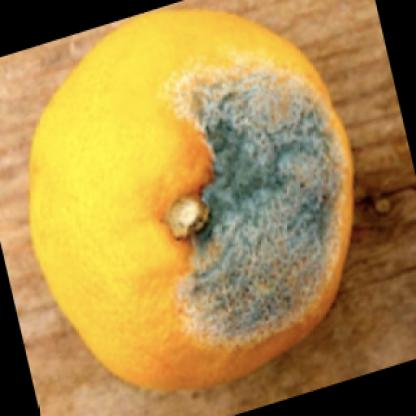rotten_orange: (21, 8, 355, 399)
